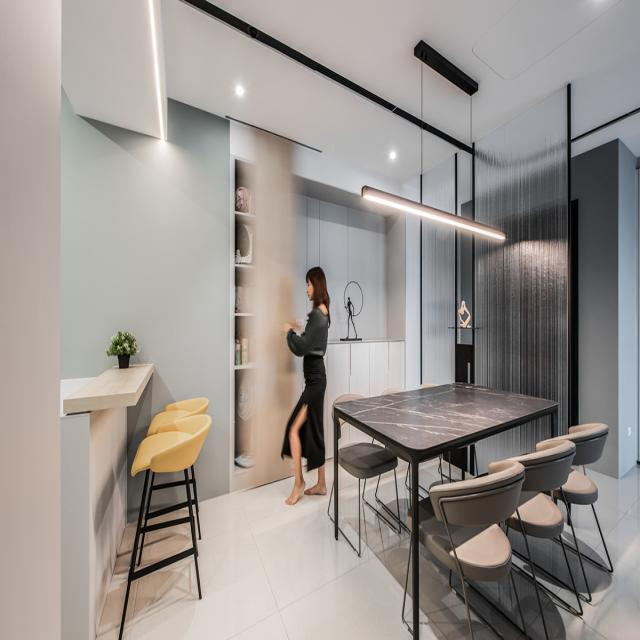table: (324, 372, 622, 635)
